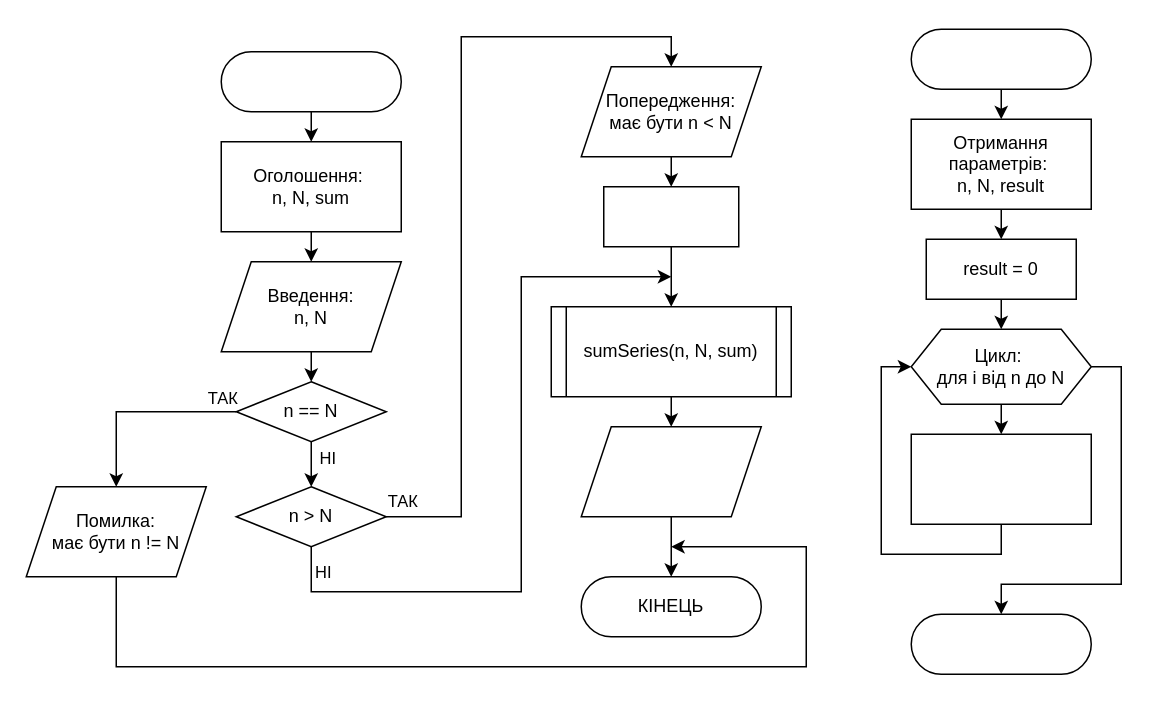
This 1160x705 diagram has some shape labels left out. The shapes that lost their labels are listed below. From the top down, each one's centre as x and y in pixels, then its label:
the point at 1000,58: sumSeries
the point at 310,81: ПОЧАТОК
the point at 670,216: n <=> N
the point at 670,471: Вивід: сума ряду sum
the point at 1000,478: result += (i * (i - 7)) / 8.0
the point at 1000,643: ВИХІД
